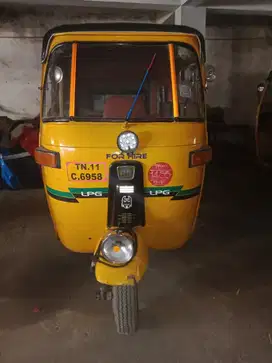auto: (36, 18, 219, 342)
numberplate: (64, 159, 105, 188)
